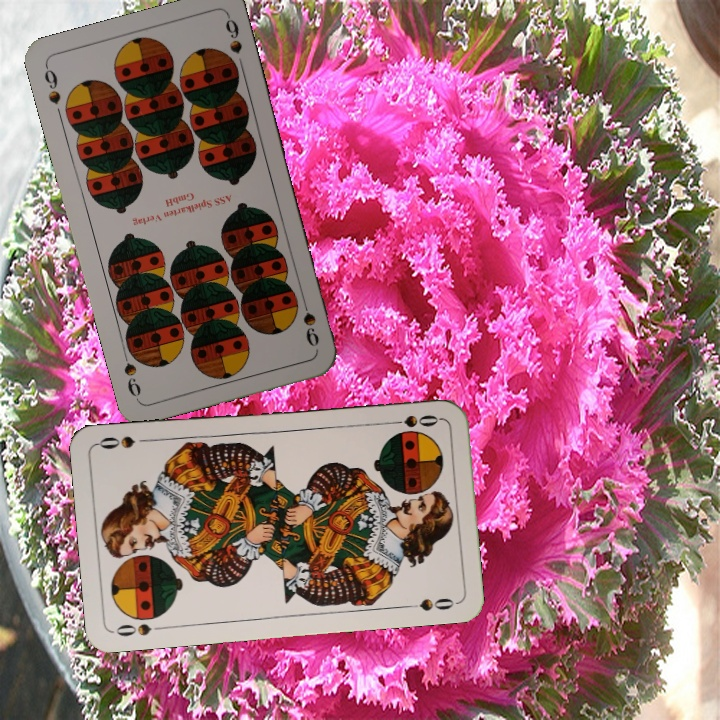S9: (297, 292, 322, 349), (40, 62, 63, 107)
SO: (112, 619, 169, 639), (383, 411, 442, 430)
